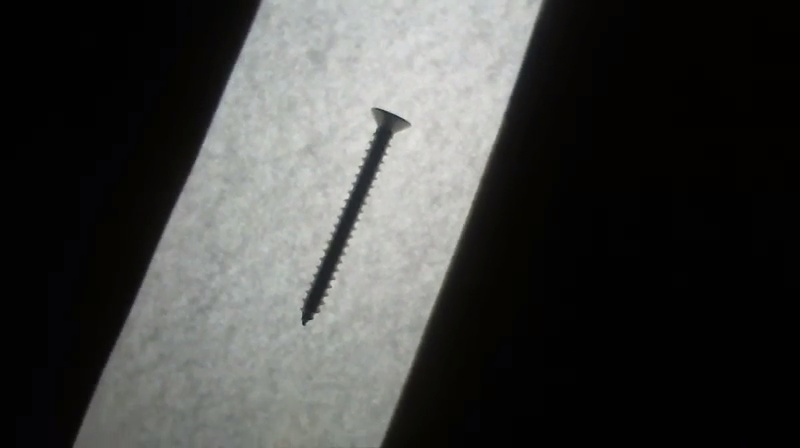S002: (297, 105, 413, 330)
